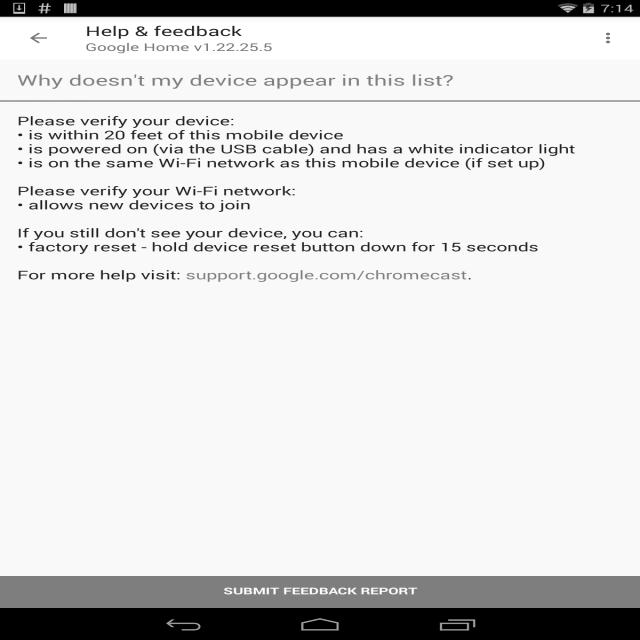Button: (0, 576, 640, 608)
ImageButton: (9, 17, 68, 59)
ImageView: (589, 22, 631, 54)
TextView: (0, 112, 640, 294), (0, 59, 640, 90), (85, 22, 242, 40), (85, 40, 272, 54)
